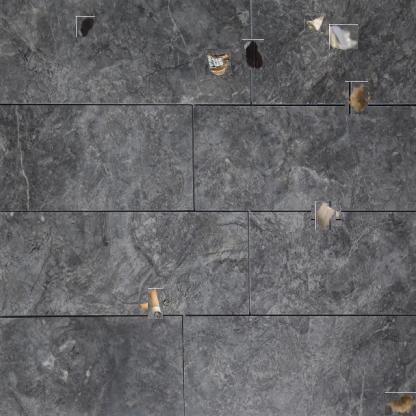dirty: (342, 84, 371, 112), (384, 392, 416, 415), (329, 24, 358, 49), (205, 49, 231, 75), (313, 203, 339, 228), (144, 292, 167, 316), (304, 12, 326, 32)
liquid: (242, 39, 264, 70), (76, 16, 95, 37)
